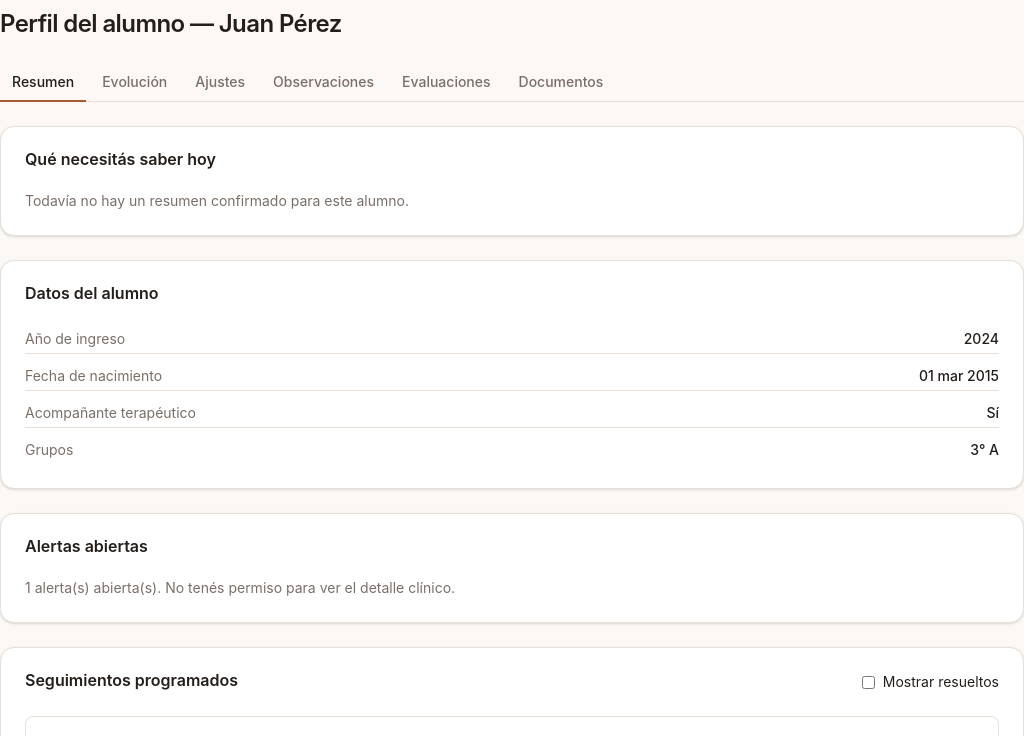
Test: StudentTrackingPage › says when the grades list only shows the most recent ones
What coordinates should you click on to do the following:
click the tab "Evaluaciones"
I would click on:
 (446, 83)
Its box is [390,64,502,102].
(page scrolled)
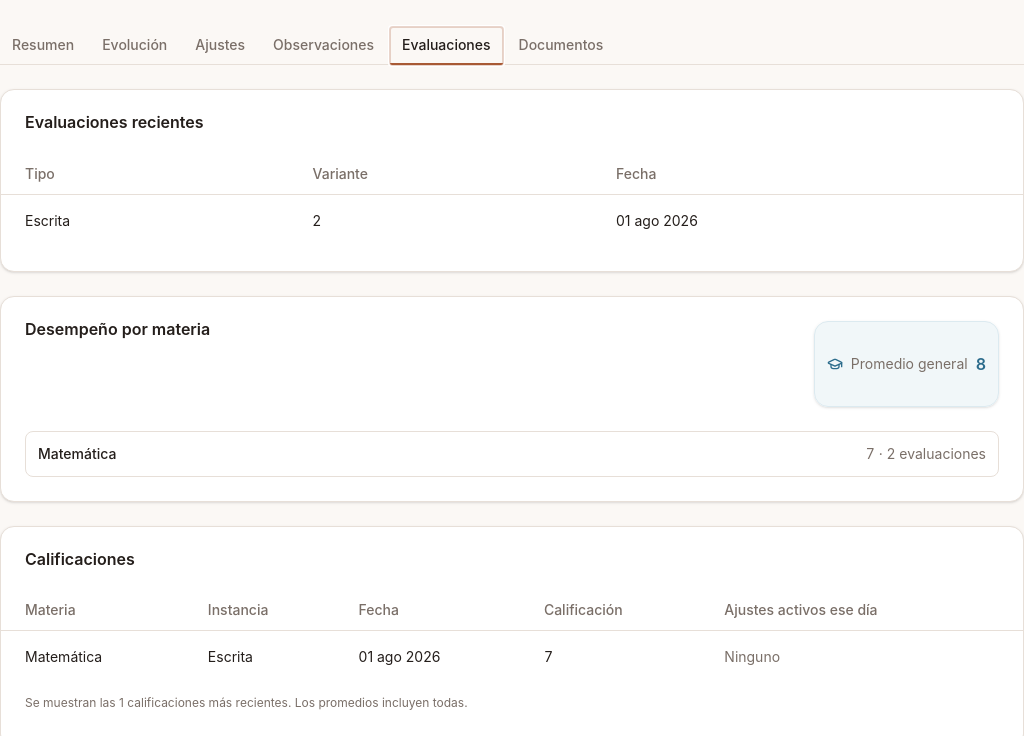
expect the text "Se muestran las 1 calificaciones más recientes" is shown: met, box [25,695,468,710]
